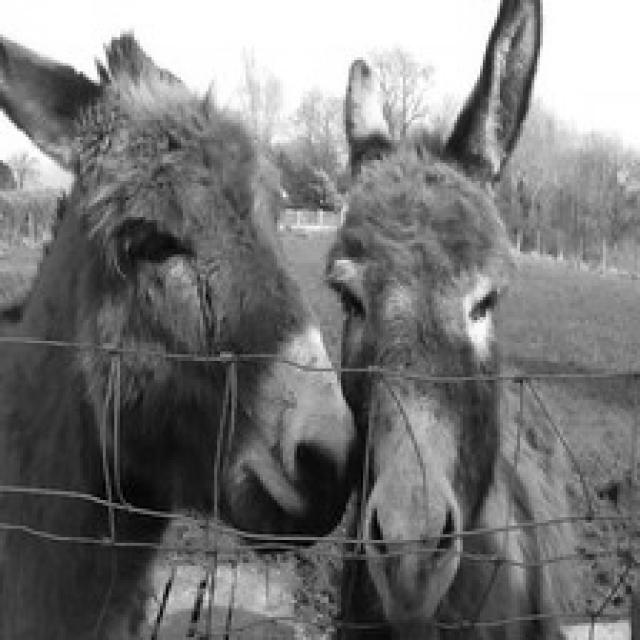Donkey: (0, 23, 357, 637), (320, 0, 589, 637)
